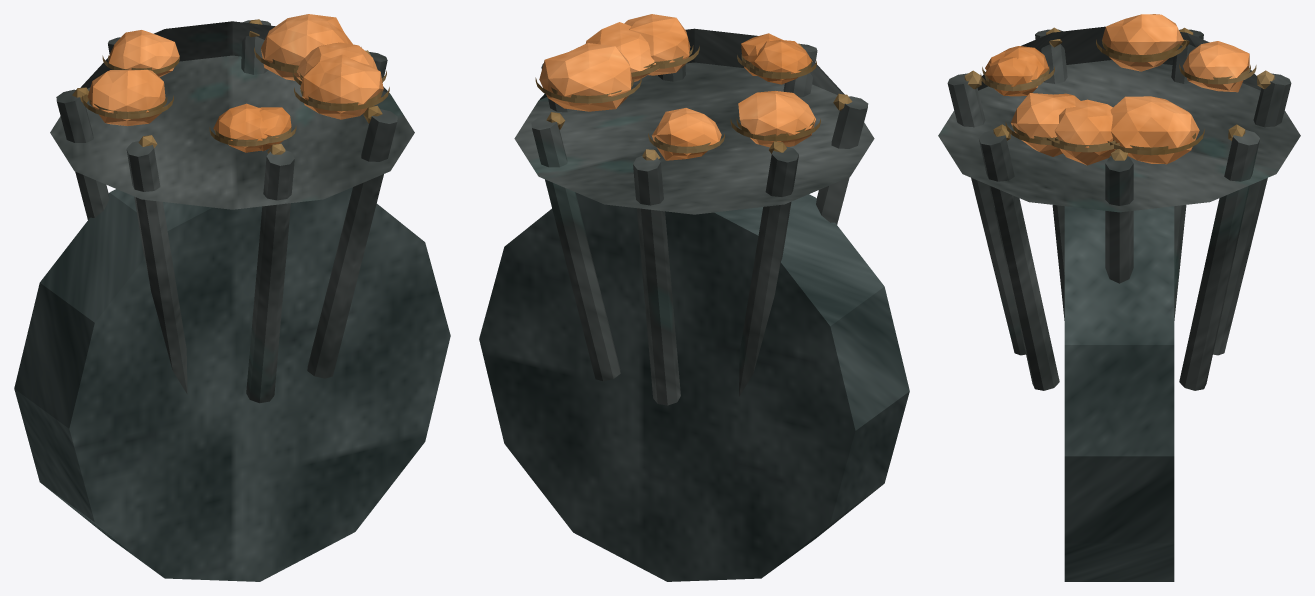
The model's file is 0537_brazier_12.glb.
3 views of the same model, side by side, from view 1: azimuth 30°, elevation 25°; view 2: azimuth 150°, elevation 25°; view 3: azimuth 270°, elevation 25° (orthographic).
Parts seen in each view (by area): view 1: stone_dark, iron, amber, brass; view 2: stone_dark, iron, amber, brass; view 3: iron, stone_dark, amber, brass.
Part boxes in pixels (x1,y1,x2,y2): stone_dark: (14, 187, 450, 581); iron: (50, 20, 414, 403); amber: (87, 14, 383, 152); brass: (72, 19, 389, 154); stone_dark: (479, 192, 909, 581); iron: (514, 28, 874, 405); amber: (539, 14, 815, 160); brass: (535, 43, 852, 160); iron: (938, 26, 1300, 390); stone_dark: (1064, 206, 1174, 581); amber: (985, 14, 1249, 165); brass: (964, 27, 1274, 160).
Bounding box in the file's own units: 1.4 × 1.78 × 1.16.
Materials: 4 (4 with a texture image).
